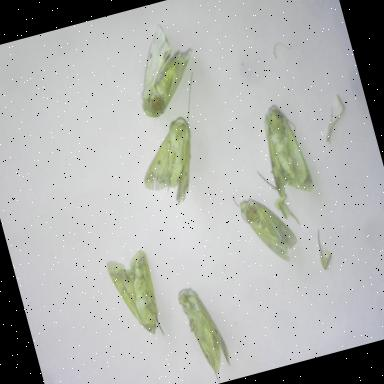abw: (120, 14, 210, 122), (125, 111, 212, 217), (249, 96, 320, 206), (102, 246, 172, 349), (173, 279, 238, 384), (234, 186, 304, 274)
